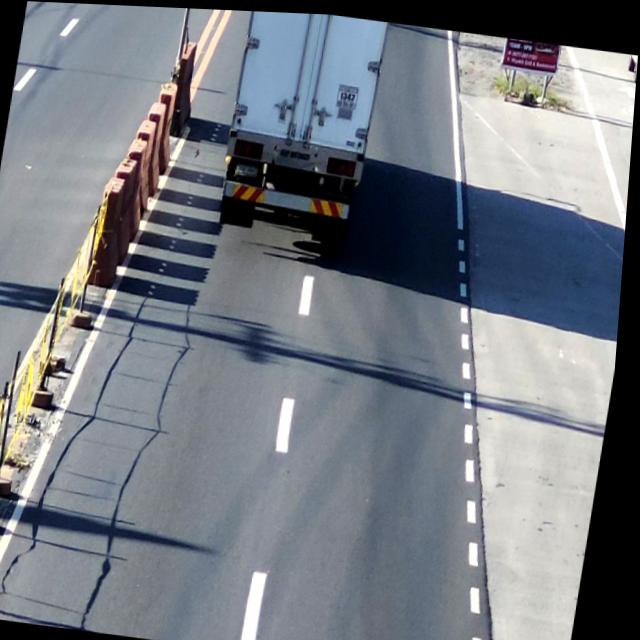Truck: (221, 8, 387, 234)
